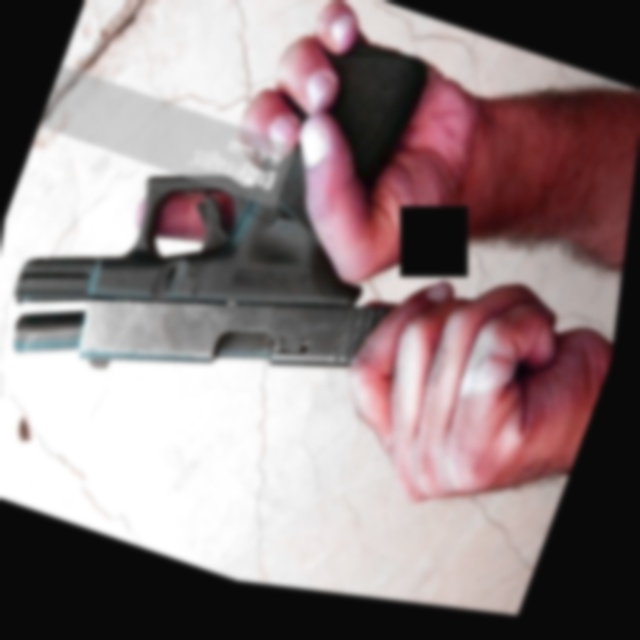gun: (0, 0, 482, 477)
